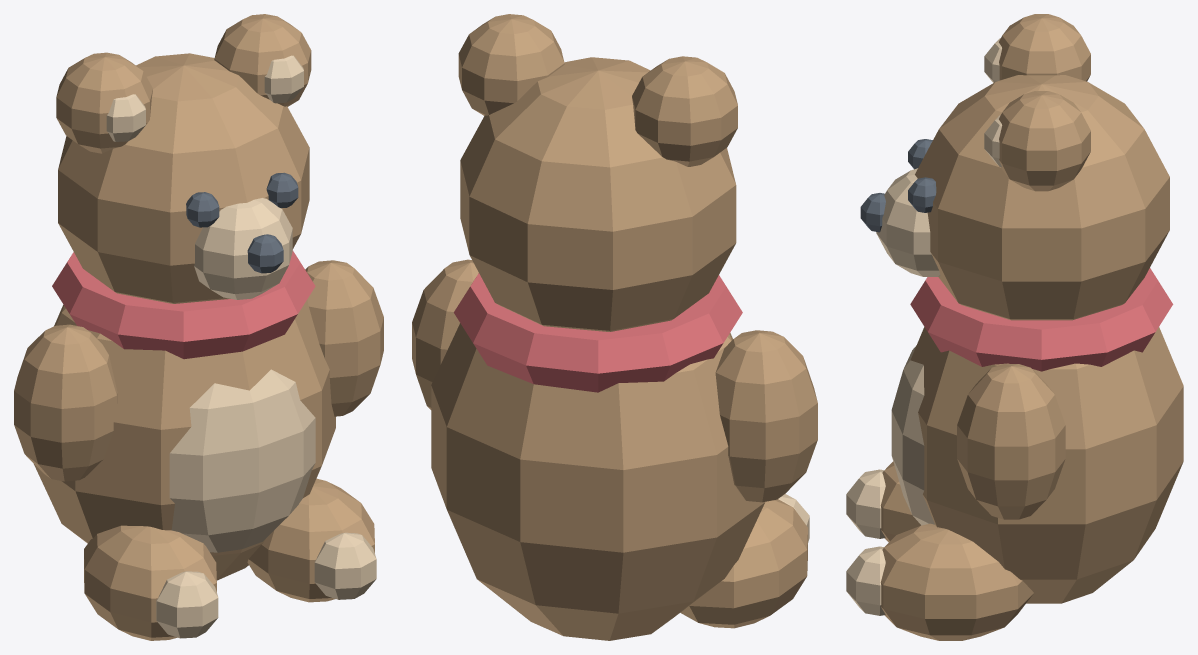
The model's file is toy_bear.glb.
3 renders of one model, left to right at view 1: azimuth 30°, elevation 25°; view 2: azimuth 150°, elevation 25°; view 3: azimuth 270°, elevation 25°, orthographic. The views are drawn at different scales.
Parts seen in each view (by area): view 1: Body, Belly, Scarf, Eye.-1; view 2: Body, Scarf; view 3: Body, Belly, Scarf, Eye.-1.
Boxes of the visible parts, x1=… form: Body: x1=14, y1=14, x2=383, y2=640; Belly: x1=106, y1=55, x2=376, y2=638; Scarf: x1=52, y1=250, x2=315, y2=359; Eye.-1: x1=186, y1=172, x2=298, y2=273; Body: x1=412, y1=14, x2=817, y2=640; Scarf: x1=454, y1=273, x2=742, y2=392; Body: x1=880, y1=14, x2=1183, y2=640; Belly: x1=846, y1=38, x2=1002, y2=615; Scarf: x1=910, y1=268, x2=1173, y2=371; Eye.-1: x1=860, y1=139, x2=936, y2=232.
Size of the model in its own units: 0.402 by 0.5885 by 0.3337.
